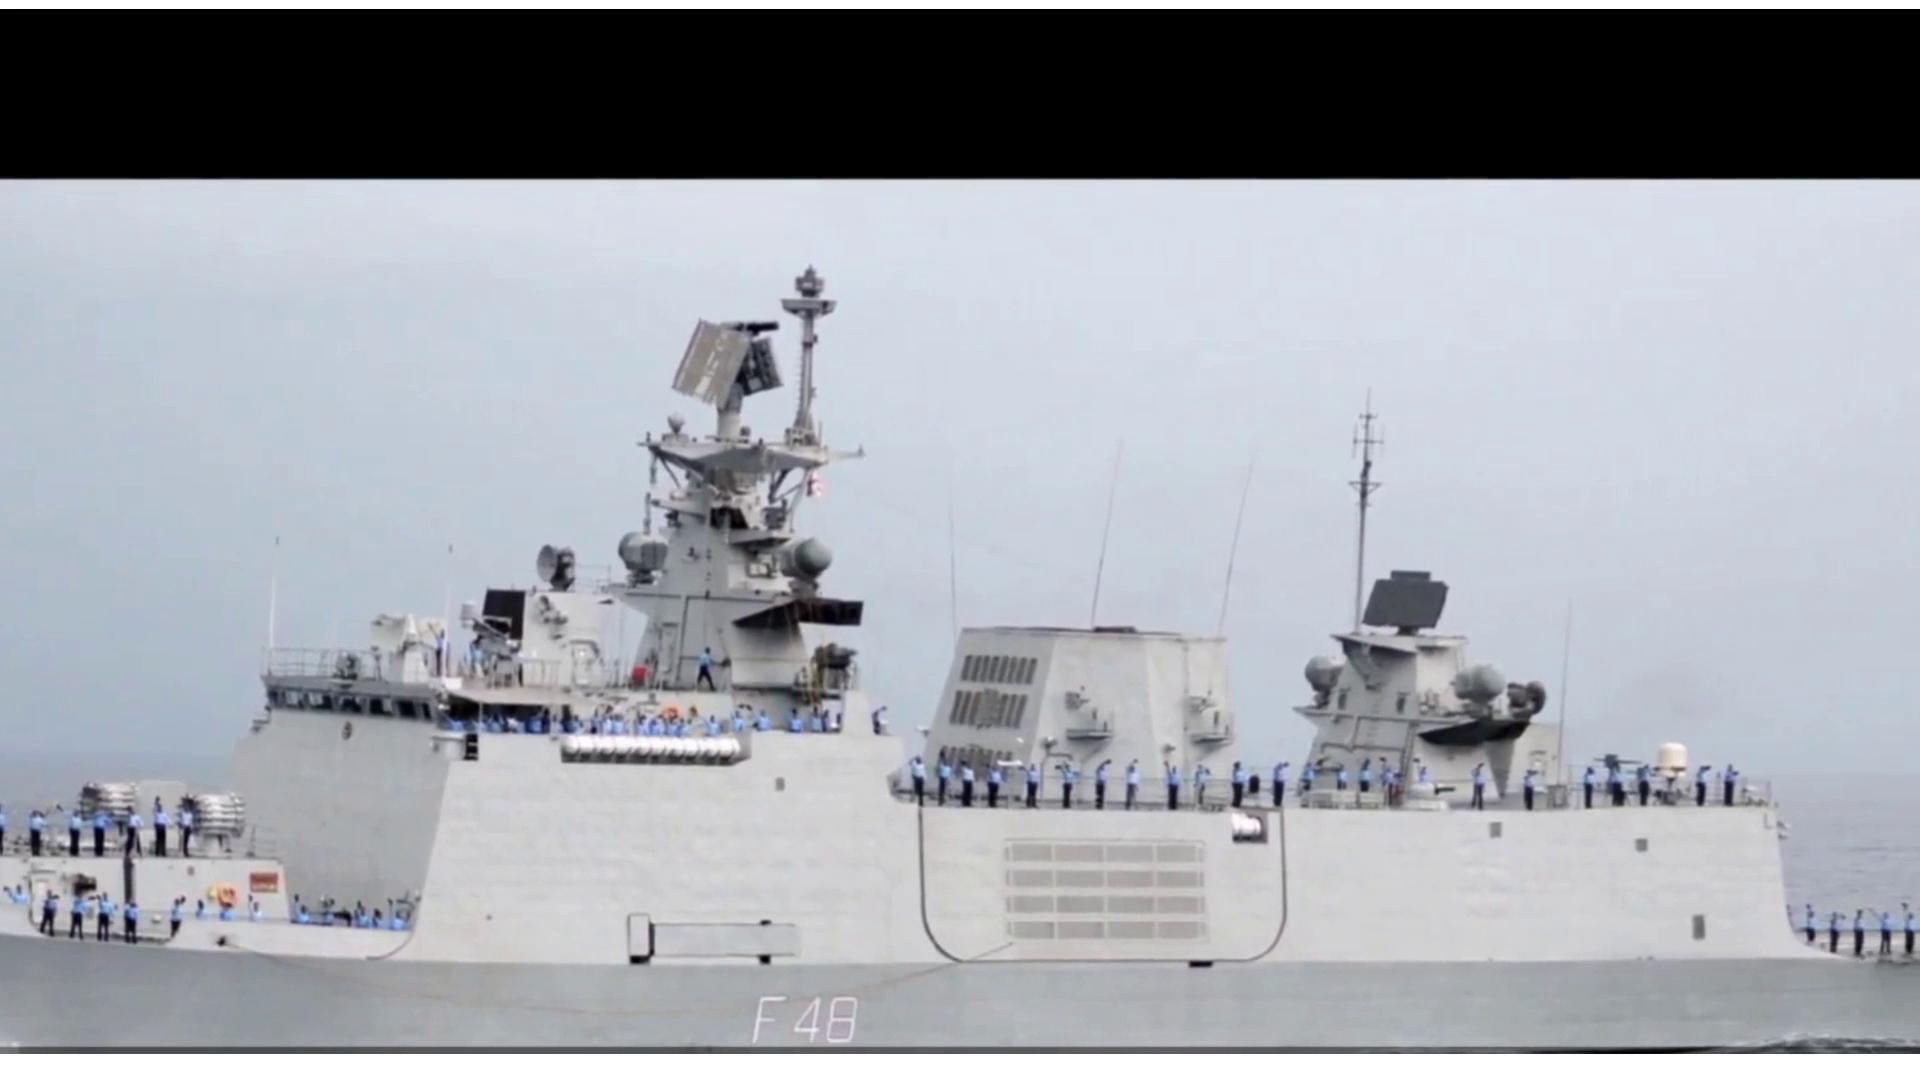OCR: (720, 989, 878, 1051)
